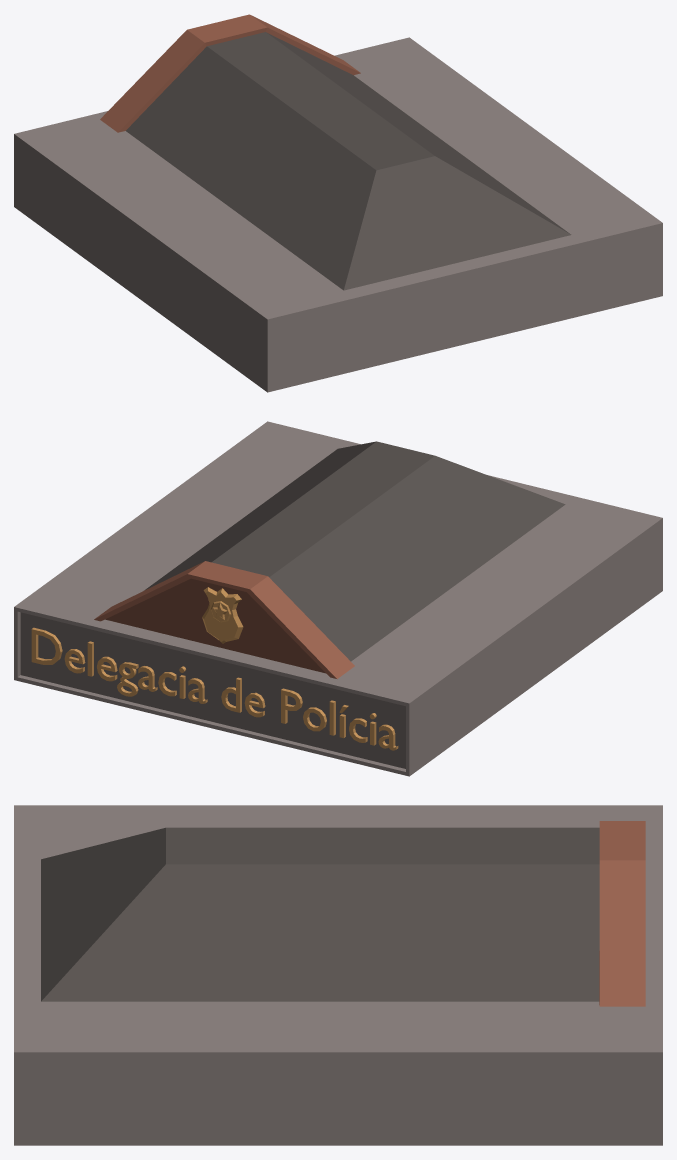
File: PoliceSign.glb
The picture shows the model from 3 angles, top to bottom: view 1: azimuth 30°, elevation 25°; view 2: azimuth 150°, elevation 25°; view 3: azimuth 270°, elevation 25°; orthographic projection. The views are drawn at different scales.
Parts seen in each view (by area): view 1: PoliceSign Variant; view 2: PoliceSign Variant; view 3: PoliceSign Variant.
Boxes of the visible parts, bbox=[...] form: PoliceSign Variant: bbox=[14, 14, 662, 392]; PoliceSign Variant: bbox=[14, 421, 662, 776]; PoliceSign Variant: bbox=[14, 805, 662, 1145].
Size of the model in its own units: 5 by 1.71 by 5.55.
Materials: 1 (1 with a texture image).
